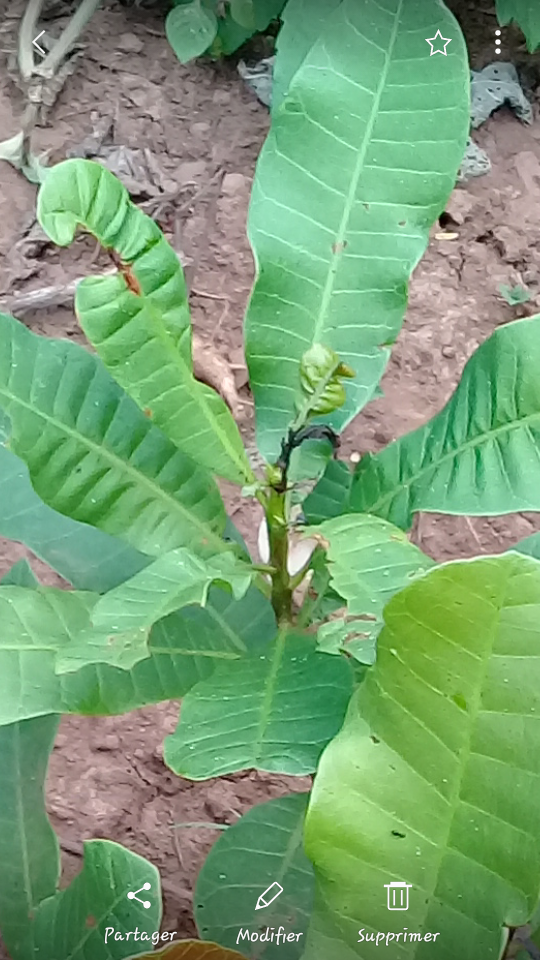Dessèchement des bourgeons: (258, 417, 340, 492)
